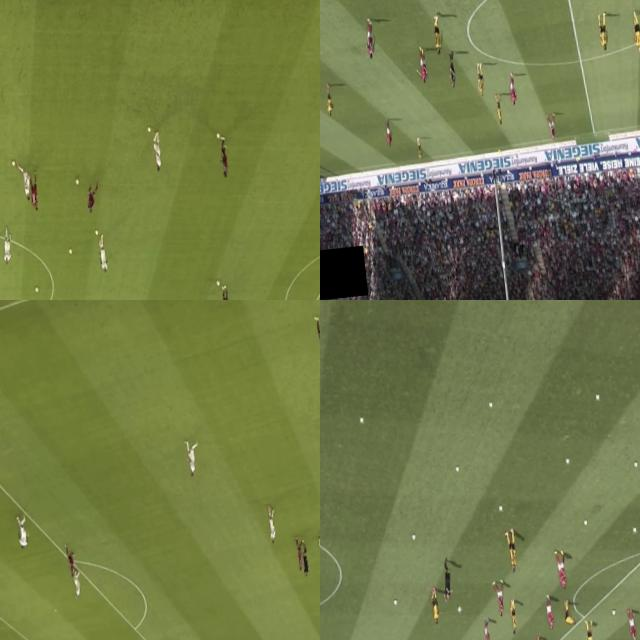ball: (390, 598, 398, 608), (497, 502, 504, 512), (454, 464, 461, 474), (10, 157, 16, 168), (633, 460, 639, 469), (74, 179, 80, 187), (582, 517, 588, 525), (358, 416, 364, 424), (92, 230, 99, 236), (34, 285, 38, 295), (146, 128, 152, 134), (68, 247, 72, 256), (610, 610, 616, 616), (410, 534, 416, 540), (632, 526, 637, 533), (566, 458, 570, 466), (488, 401, 492, 409), (216, 134, 220, 140), (458, 608, 462, 614), (638, 579, 640, 589), (596, 395, 600, 399)
player: (553, 546, 568, 592), (492, 579, 508, 616), (505, 530, 518, 574), (430, 9, 442, 56), (14, 512, 28, 552), (596, 14, 609, 54), (184, 441, 198, 478), (18, 166, 33, 200), (152, 128, 164, 169), (363, 20, 375, 61), (28, 170, 40, 210), (265, 504, 277, 543), (630, 8, 640, 53), (474, 61, 486, 98), (416, 50, 429, 84), (219, 138, 230, 178), (507, 70, 518, 108), (2, 226, 12, 264), (98, 235, 108, 272), (544, 592, 554, 628), (430, 586, 440, 622), (85, 182, 96, 213), (625, 609, 636, 640), (294, 538, 304, 572), (508, 600, 518, 634), (71, 566, 82, 596), (480, 614, 492, 640), (494, 95, 504, 126), (563, 601, 575, 626), (546, 113, 556, 142), (325, 88, 334, 118), (314, 318, 320, 363), (66, 546, 75, 574), (384, 117, 392, 145), (219, 282, 231, 300), (584, 620, 594, 640), (415, 139, 422, 161), (316, 532, 320, 565)
